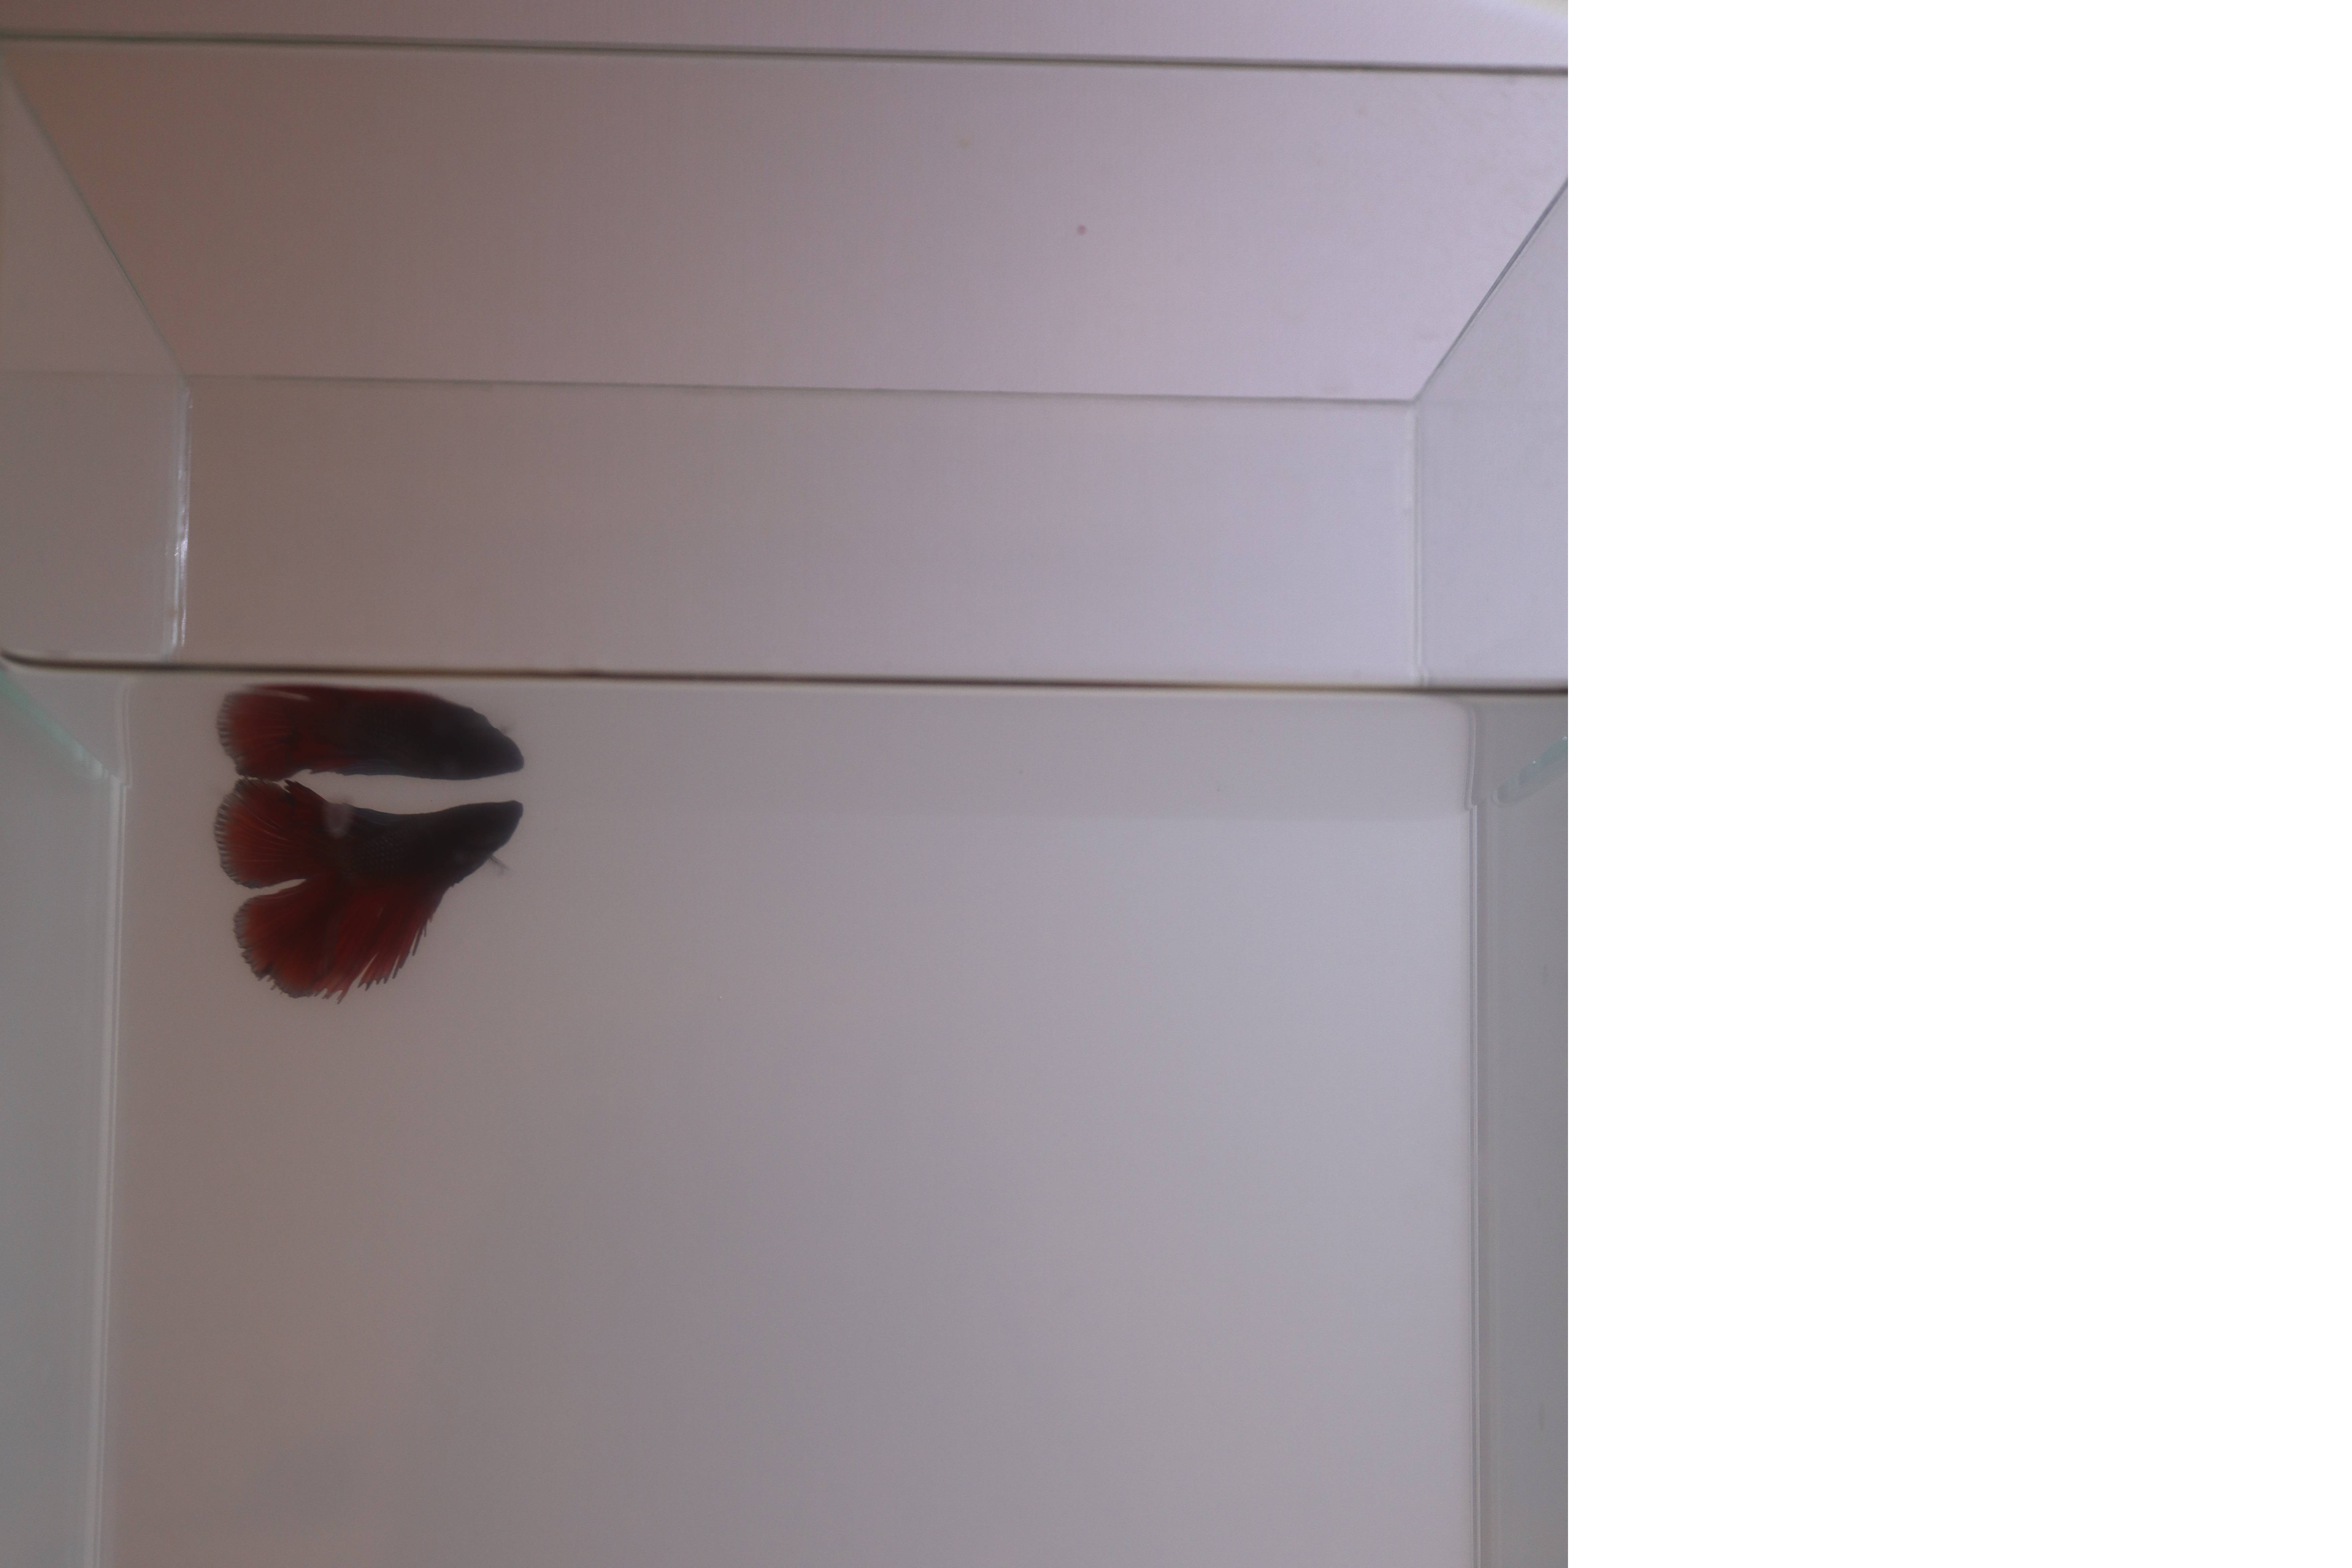fish: (194, 775, 555, 1004)
